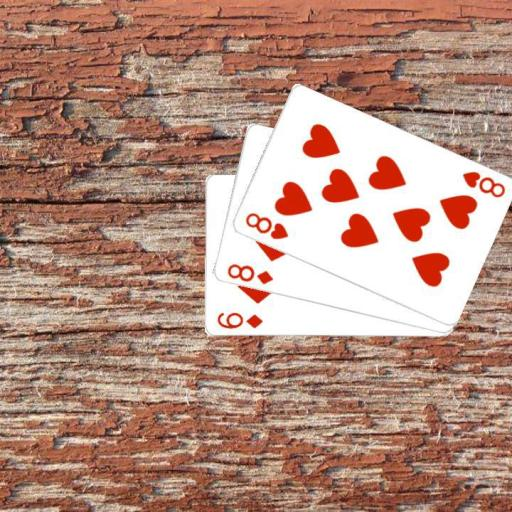6D: (213, 310, 264, 331)
8D: (224, 260, 275, 286)
8H: (241, 209, 289, 241), (459, 168, 506, 199)
